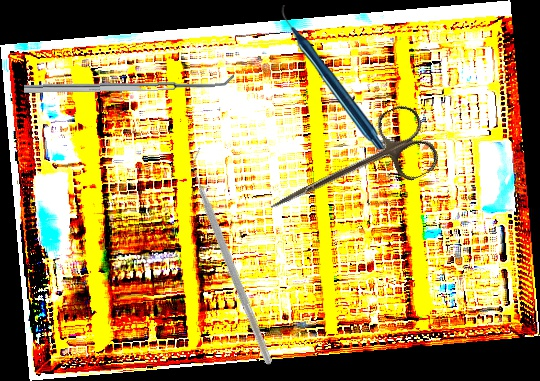Chopper: (119, 146, 350, 366)
Handpiece: (281, 5, 385, 149)
Iris Scissors: (255, 99, 444, 244)
Spatula Surgical: (23, 73, 235, 93)
